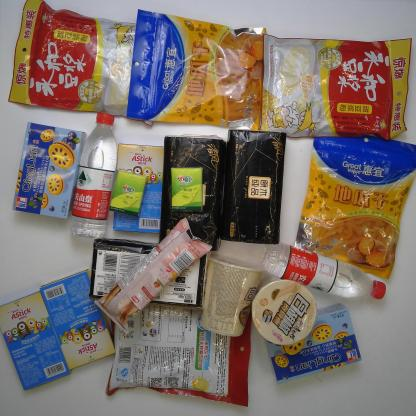Dessert: (93, 219, 213, 335), (264, 303, 362, 385), (38, 268, 116, 370), (0, 289, 73, 390), (11, 122, 86, 220), (112, 144, 166, 235)
Dried Fruit: (293, 132, 416, 280), (125, 8, 268, 132)
Drink: (260, 240, 387, 301), (69, 112, 118, 240)
Instant Drink: (8, 0, 153, 127), (259, 34, 412, 142), (105, 302, 252, 407)
Instant Noodles: (200, 254, 264, 338), (250, 275, 318, 346)
Tissue: (88, 237, 210, 311), (158, 134, 228, 252), (219, 128, 287, 245), (108, 169, 149, 218), (171, 166, 204, 214)
